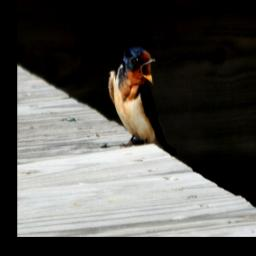Swallow: (107, 43, 165, 146)
